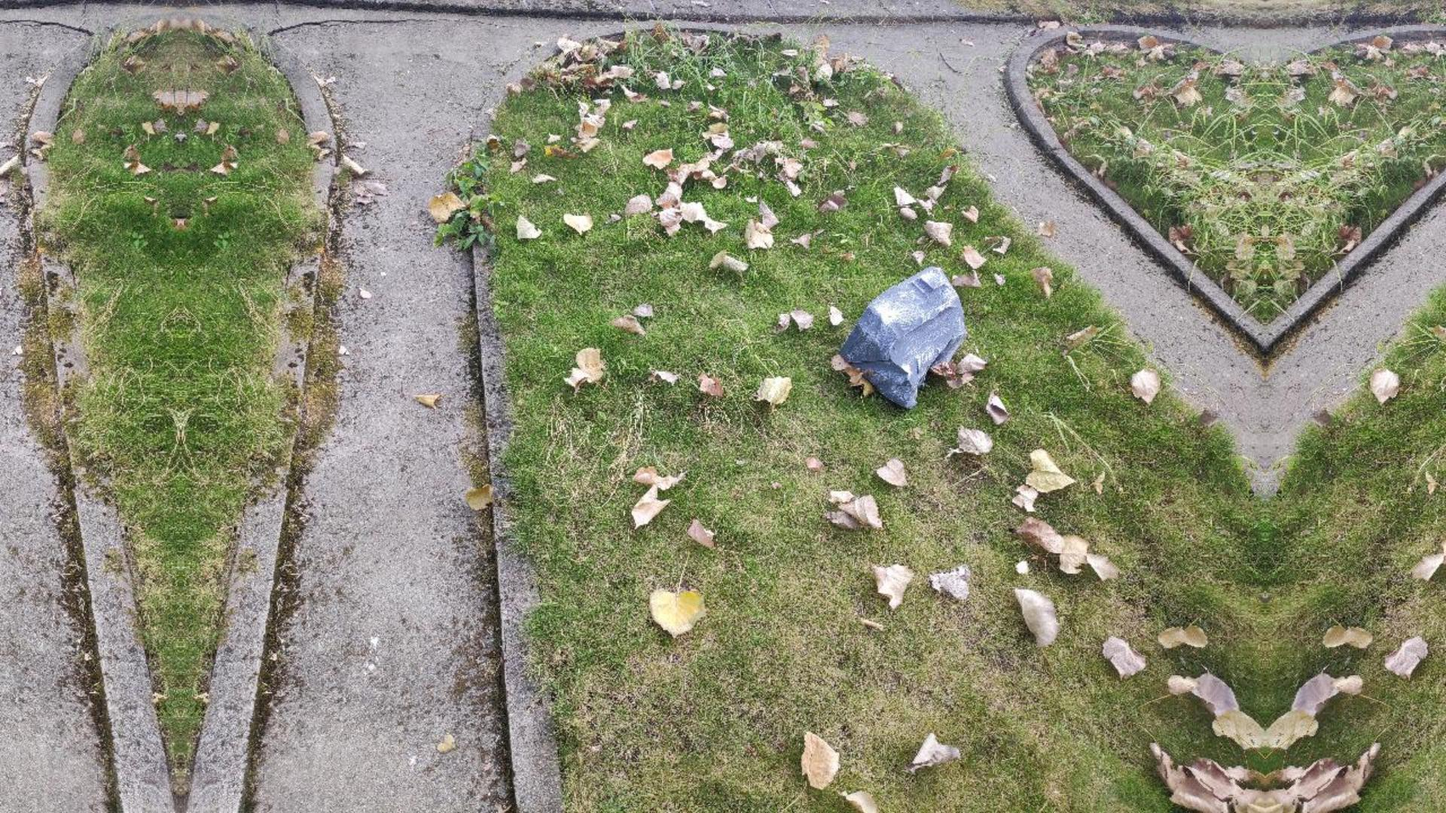rock: (839, 266, 966, 408)
